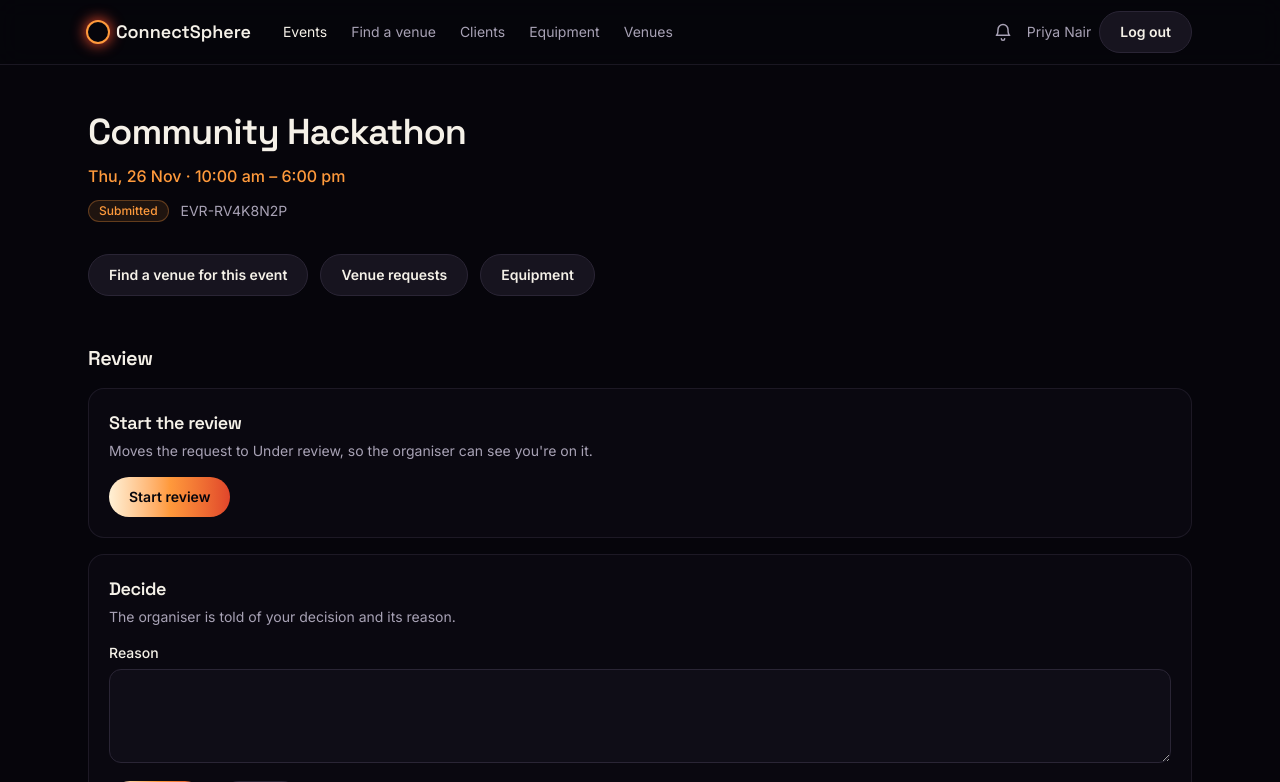
SCRUM-31 AC3 starting a review › says it is busy while the review is starting
This screenshot has width=1280, height=782.
Click the button "Start review": (170, 497) x1=109 y1=477 x2=230 y2=517
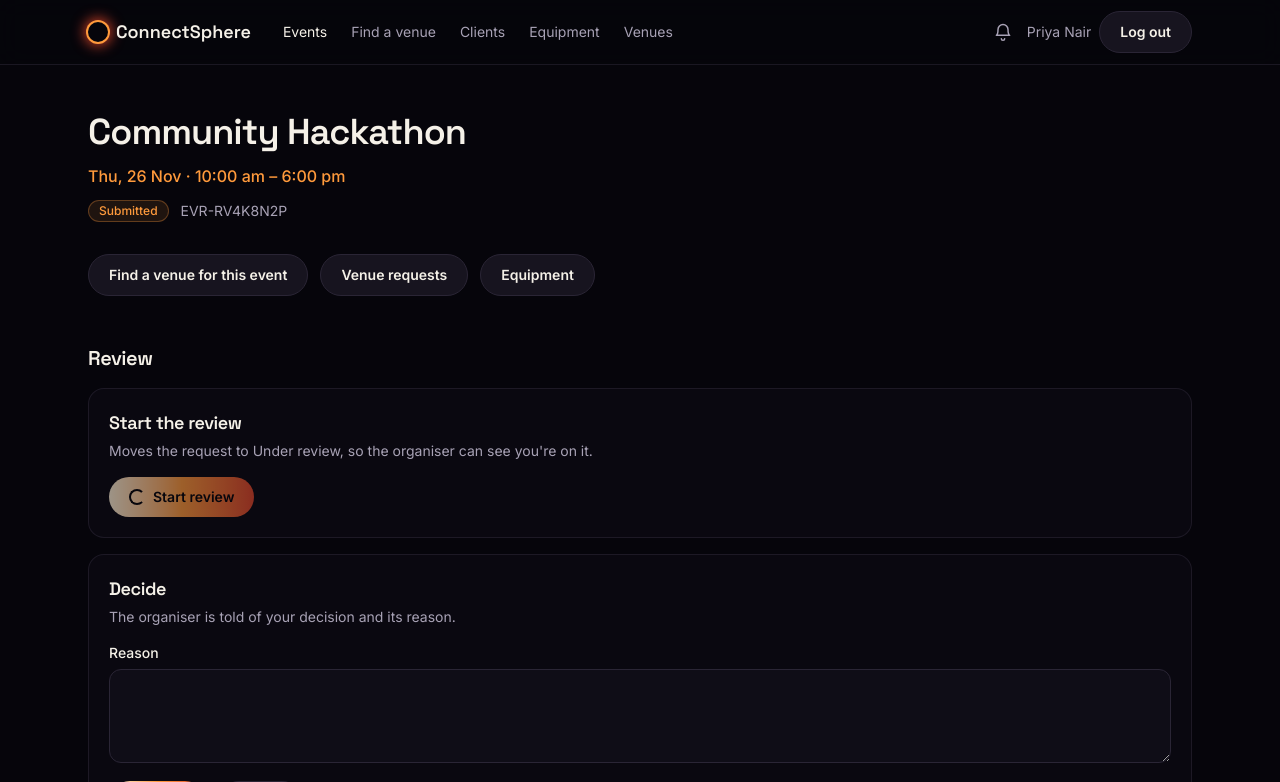
Check: the button "Start review" is disabled, box x1=109 y1=477 x2=254 y2=517
